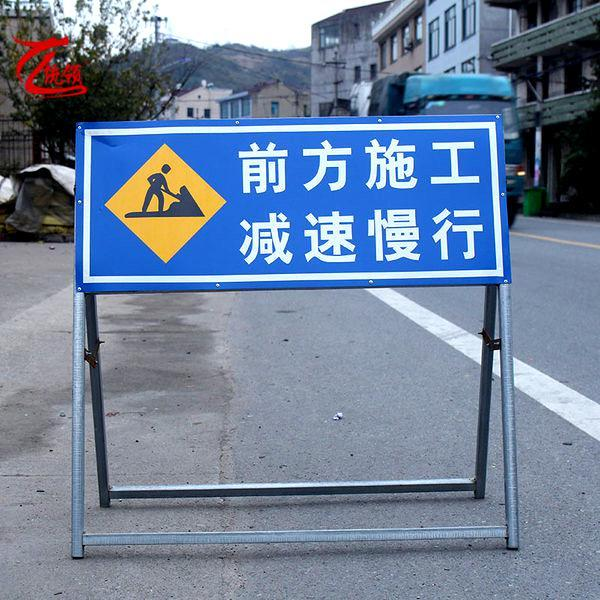sign: (81, 125, 505, 281)
